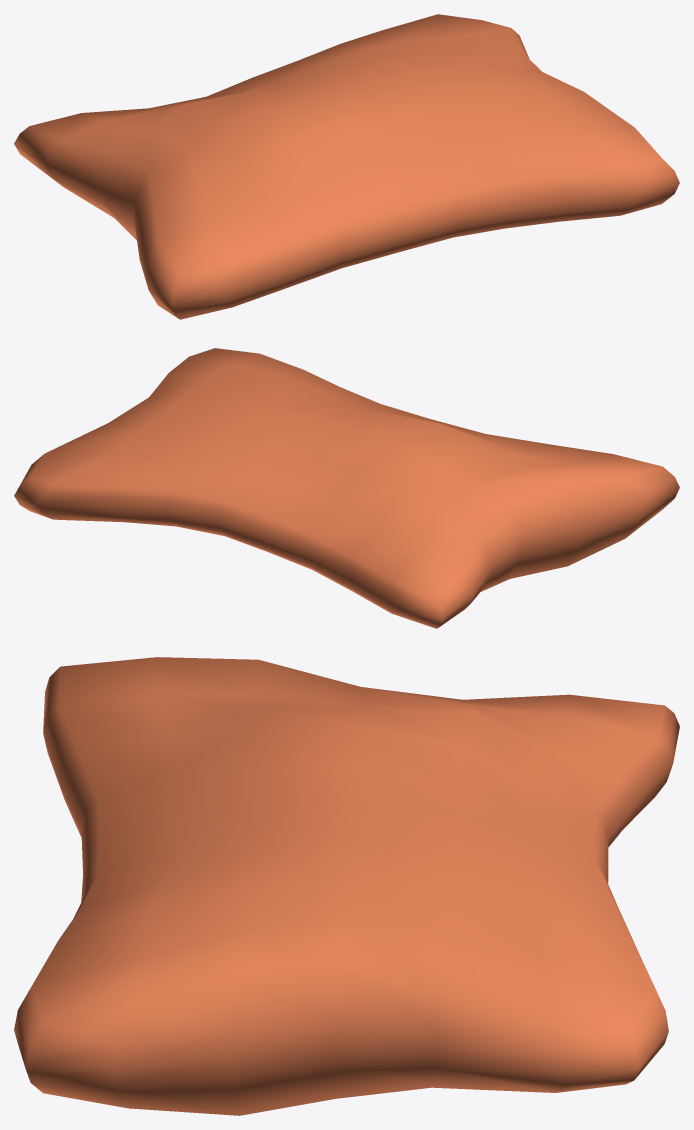
The model's file is SacoArroz.fbx.
The picture shows the model from 3 angles, top to bottom: view 1: azimuth 30°, elevation 25°; view 2: azimuth 150°, elevation 25°; view 3: azimuth 270°, elevation 25°; orthographic projection. The views are drawn at different scales.
Parts seen in each view (by area): view 1: Cube.012; view 2: Cube.012; view 3: Cube.012.
Part boxes in pixels (bbox=[...]): Cube.012: bbox=[14, 14, 679, 319]; Cube.012: bbox=[14, 348, 679, 628]; Cube.012: bbox=[14, 657, 679, 1115].
Bounding box in the file's own units: 1008 × 220 × 721.
